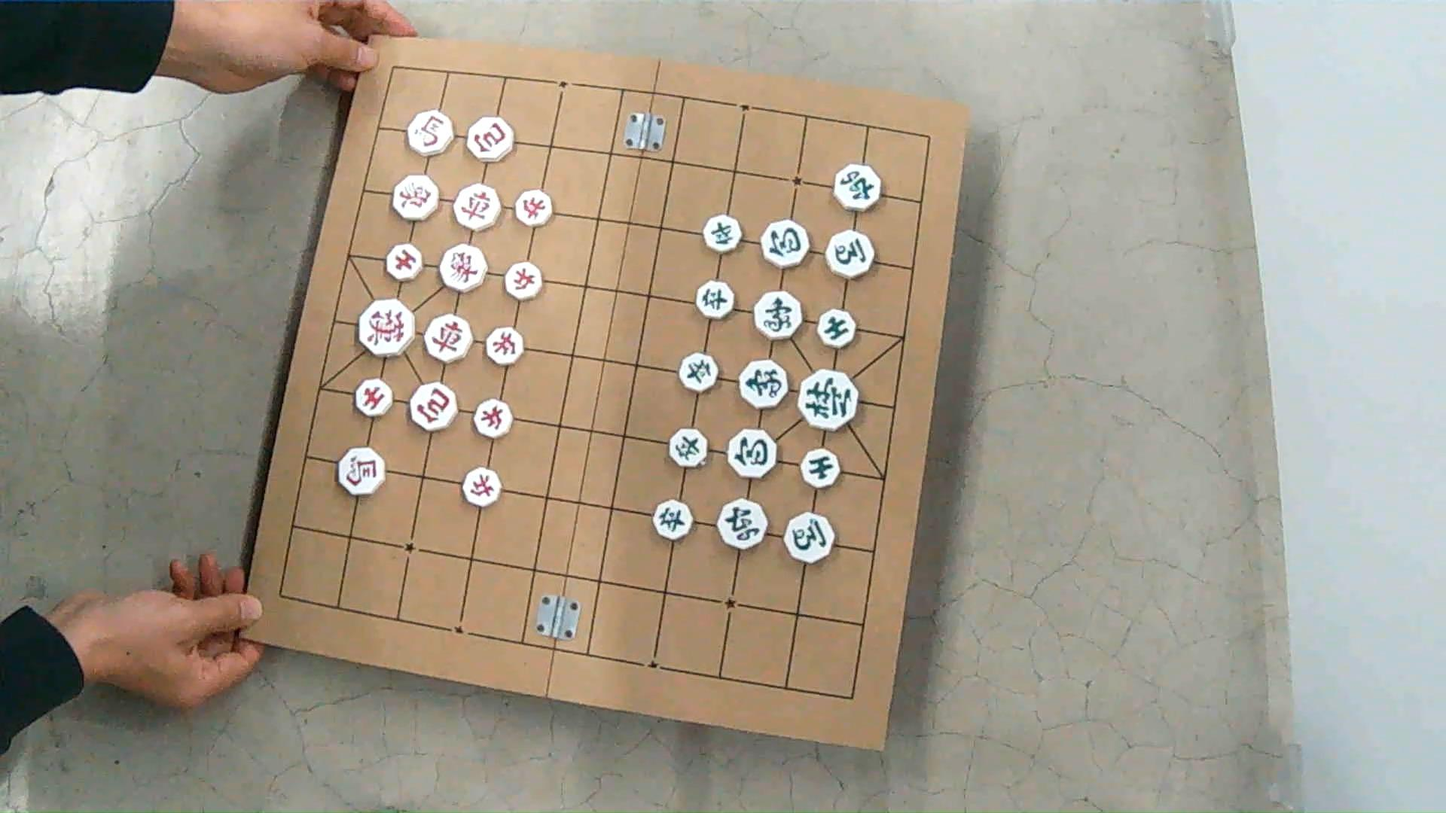cha_green: (717, 499, 767, 549), (833, 164, 880, 211)
cha_red: (425, 315, 470, 363), (453, 184, 499, 230)
jol_green: (652, 500, 692, 540), (668, 428, 707, 467), (679, 353, 718, 391), (703, 215, 741, 253), (696, 281, 733, 318)
jol_red: (463, 467, 501, 507), (474, 399, 512, 438), (504, 262, 541, 300), (486, 327, 523, 364), (515, 190, 551, 226)
ma_green: (786, 513, 834, 563), (826, 230, 874, 278)
ma_red: (338, 448, 385, 496), (407, 111, 452, 156)
po_green: (728, 429, 776, 478), (761, 220, 808, 268)
po_red: (410, 383, 456, 431), (467, 117, 513, 162)
sa_green: (818, 309, 856, 348), (801, 449, 839, 488)
sa_red: (355, 379, 392, 417), (386, 243, 423, 281)
sang_green: (740, 360, 787, 409), (755, 291, 802, 339)
sang_red: (392, 175, 438, 221), (440, 245, 485, 291)
wang_green: (798, 370, 858, 430)
wang_red: (358, 299, 414, 357)
